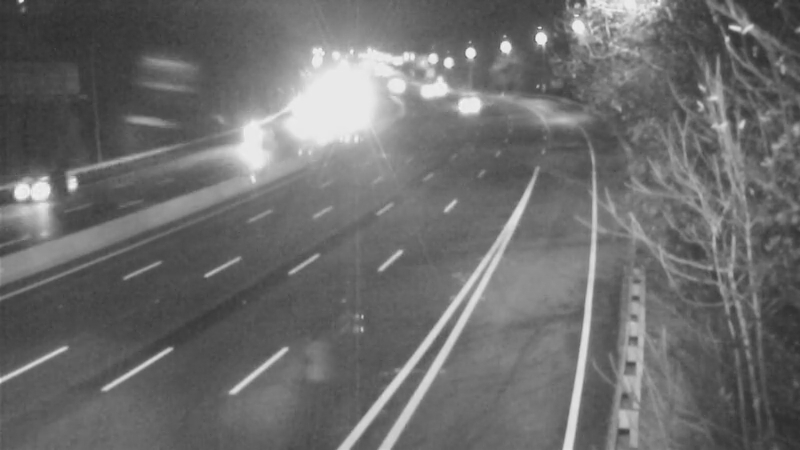vehicle: (1, 146, 81, 226), (405, 60, 455, 110), (445, 80, 495, 130), (227, 112, 277, 162)
